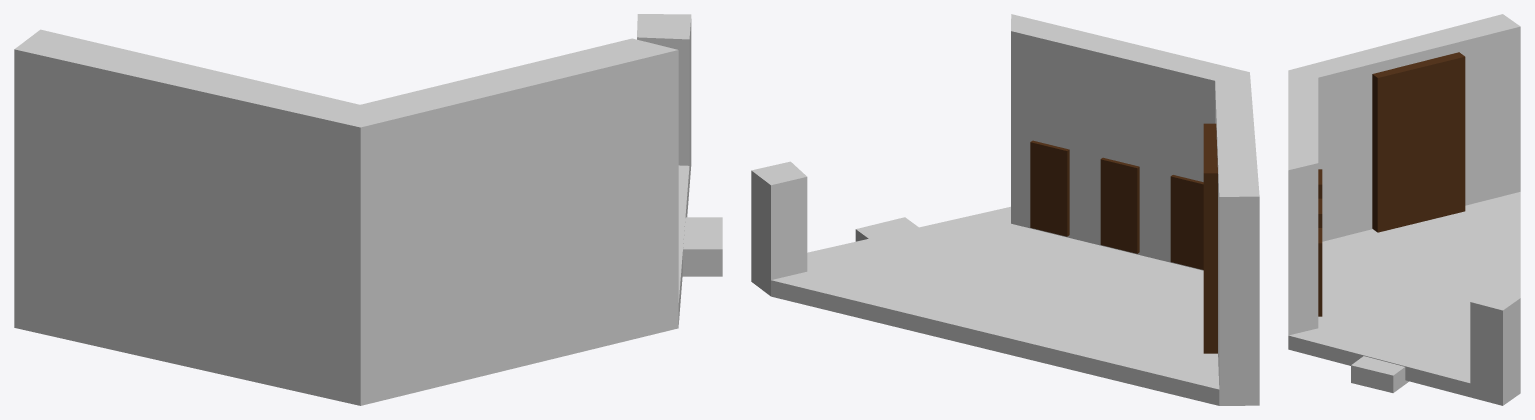
File: CastleHub1.fbx
3 views of the same model, side by side, from view 1: azimuth 30°, elevation 25°; view 2: azimuth 150°, elevation 25°; view 3: azimuth 270°, elevation 25° (orthographic). The views are drawn at different scales.
Parts seen in each view (by area): view 1: Cube.145, Plane.006; view 2: Cube.145, Cube.147, Cube.143, Plane.006; view 3: Cube.145, Cube.143, Plane.006, Cube.147.
Part boxes in pixels (bbox=[...]): Cube.145: bbox=[14, 14, 691, 405]; Plane.006: bbox=[682, 217, 722, 276]; Cube.145: bbox=[751, 14, 1259, 405]; Cube.147: bbox=[1030, 140, 1203, 269]; Cube.143: bbox=[1203, 123, 1217, 353]; Plane.006: bbox=[855, 217, 918, 241]; Cube.145: bbox=[1288, 14, 1520, 405]; Cube.143: bbox=[1372, 52, 1465, 232]; Plane.006: bbox=[1351, 356, 1408, 392]; Cube.147: bbox=[1318, 169, 1322, 316].
Bounding box in the file's own units: 11.37 × 4.57 × 5.25.
